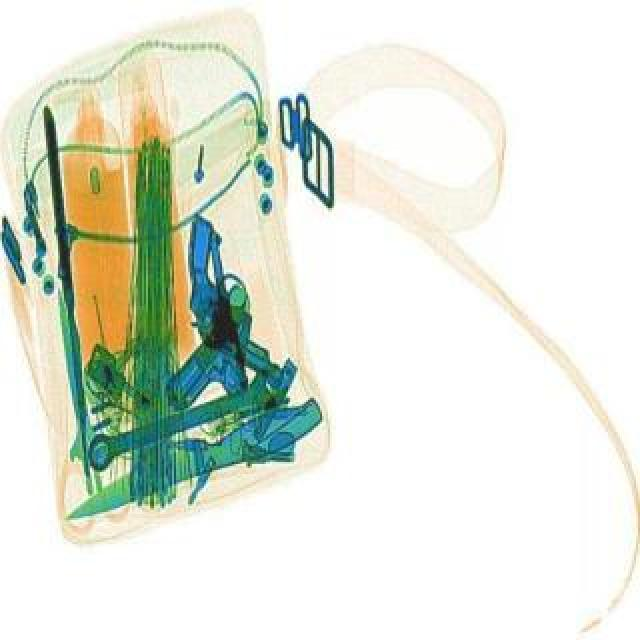gun: (132, 210, 340, 386), (128, 228, 254, 408)
knife: (54, 386, 328, 536), (40, 100, 100, 492), (56, 286, 100, 492)
scissors: (76, 358, 296, 468)
